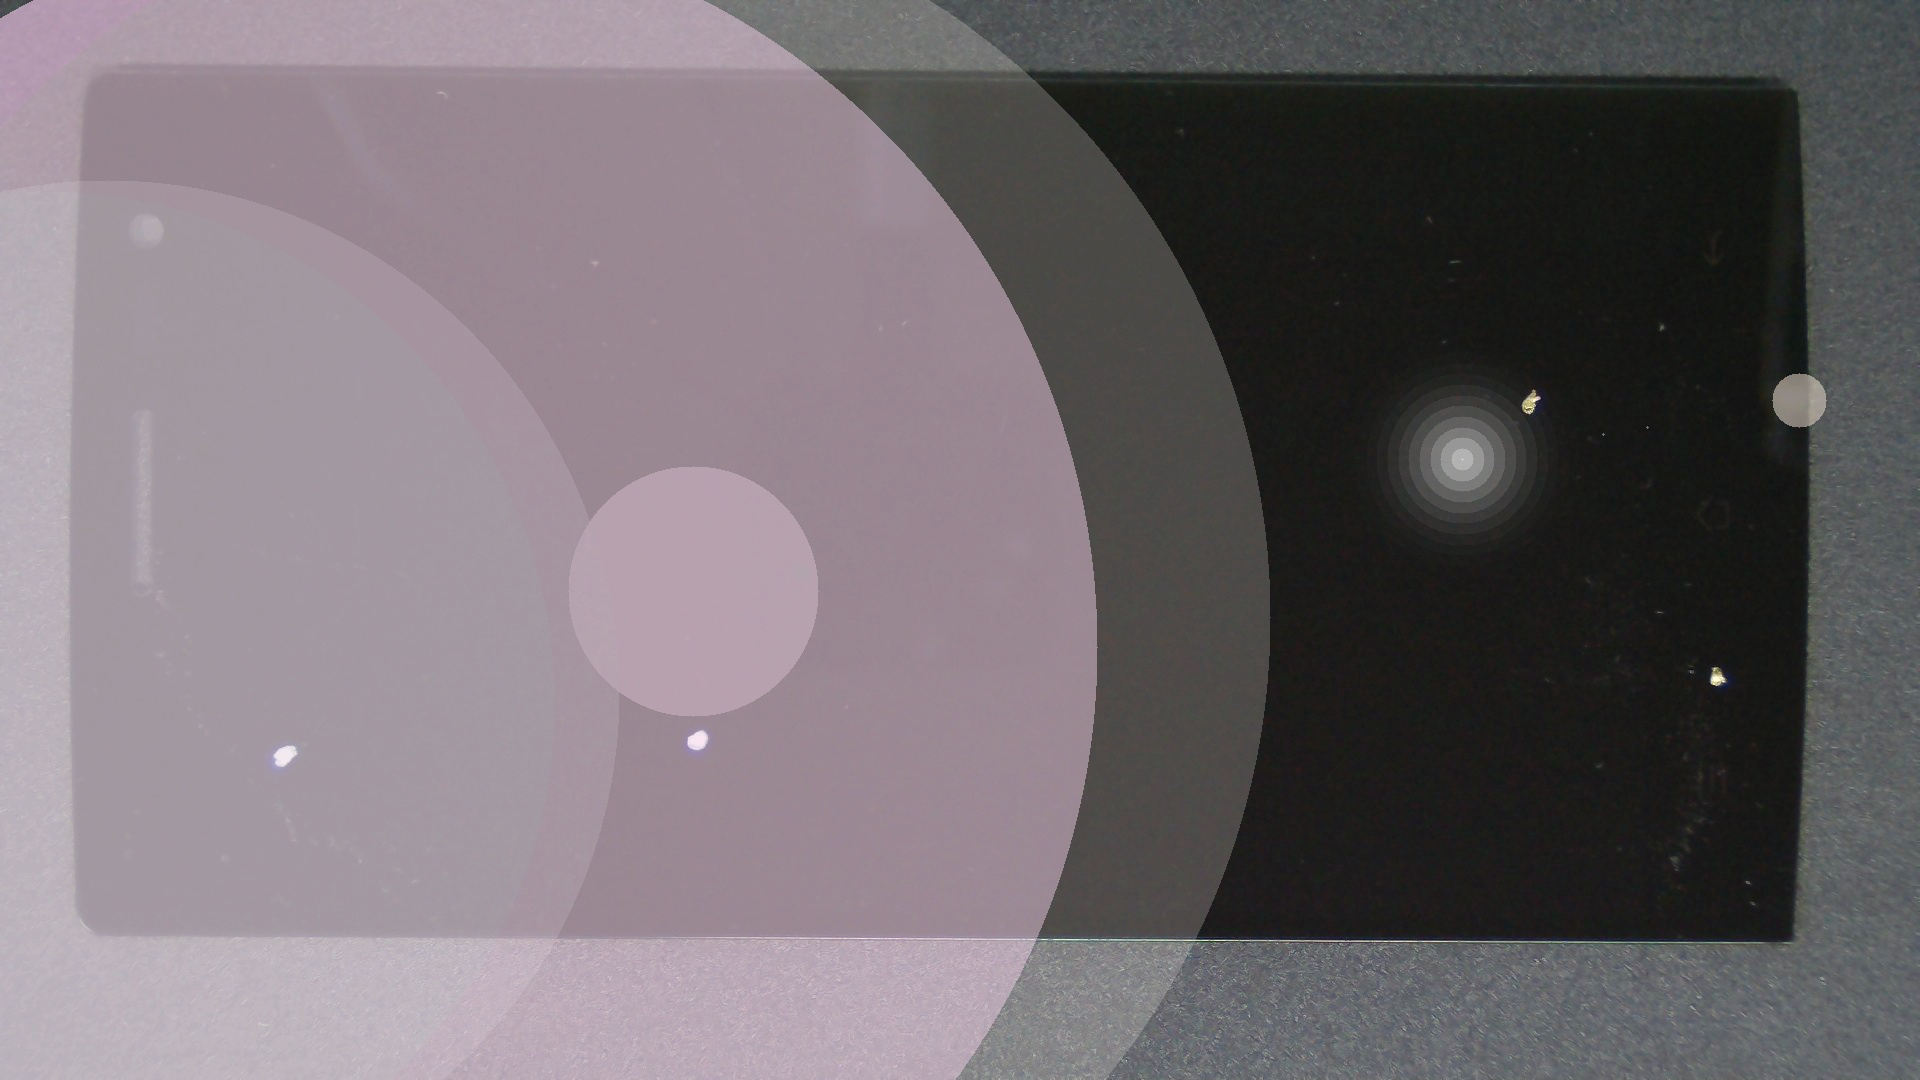oil: (856, 332, 1920, 998), (351, 363, 1047, 1080), (766, 194, 1920, 583), (144, 372, 429, 1080)
